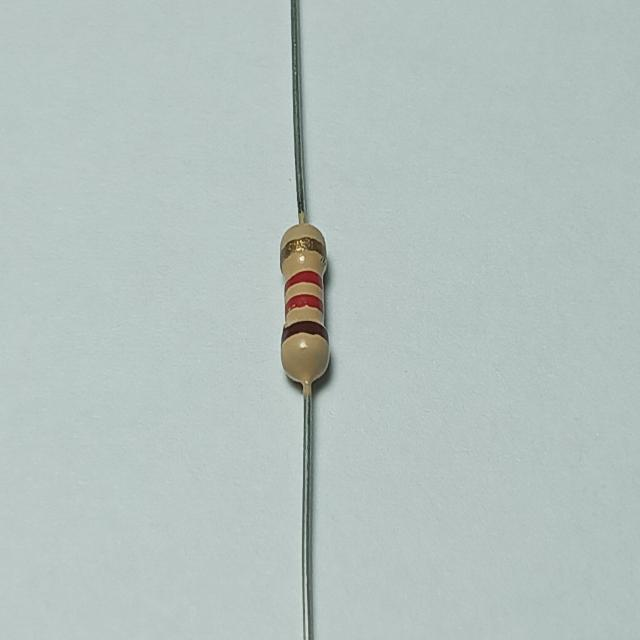1.2k ohms: (265, 209, 346, 395)
